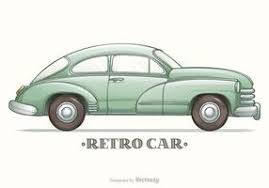car: (7, 42, 262, 132)
